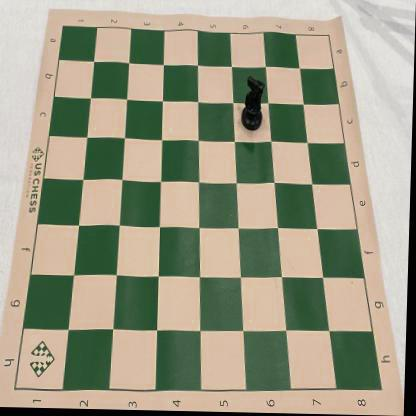black-knight: (241, 75, 266, 133)
